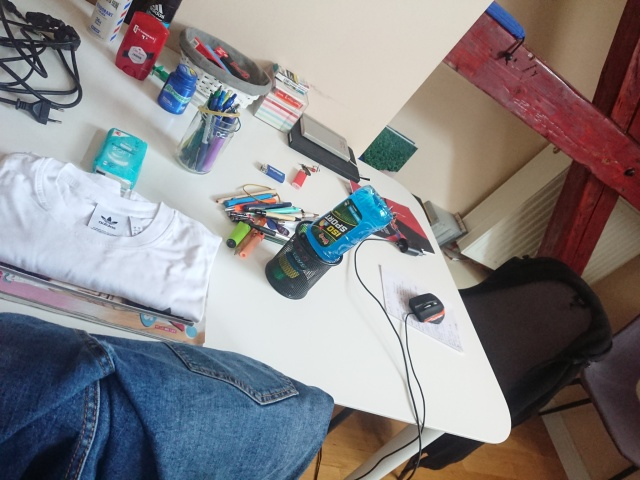Vindi Iso Sport Forest Strawberries 500mL: (272, 183, 394, 281)
